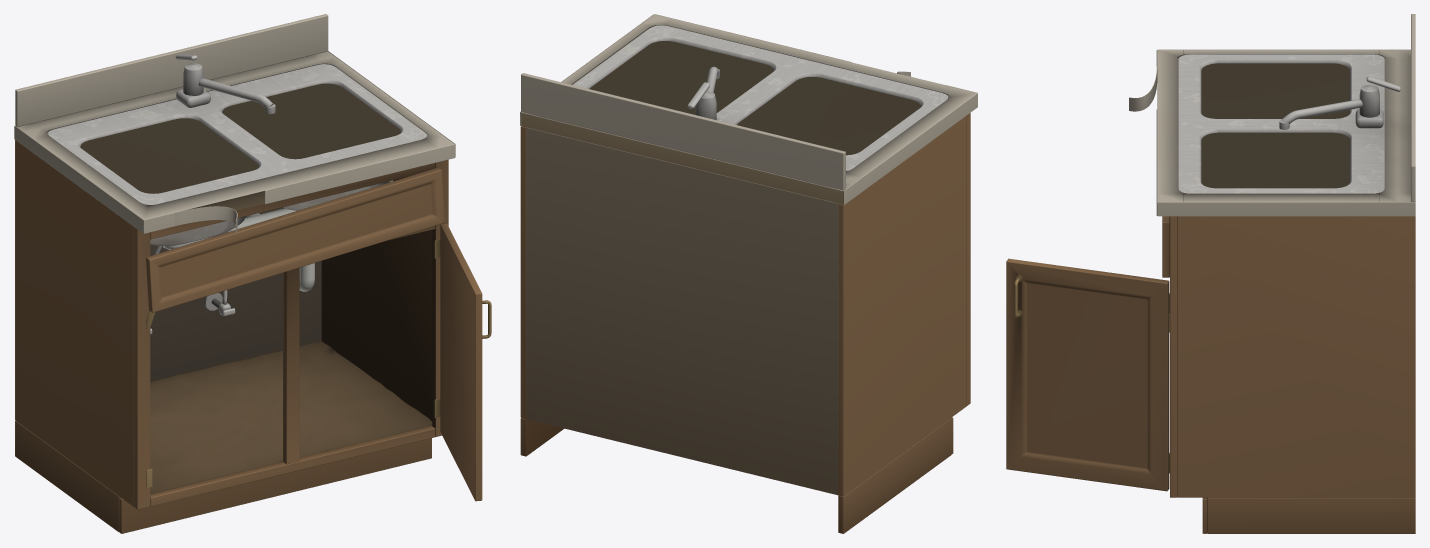
Rendered from kitchen_sink_cab_90.glb.
The picture shows the model from 3 angles, left to right: view 1: azimuth 30°, elevation 25°; view 2: azimuth 150°, elevation 25°; view 3: azimuth 270°, elevation 25°; orthographic projection. The views are drawn at different scales.
Parts seen in each view (by area): view 1: kitchen_sink_cab_90; view 2: kitchen_sink_cab_90; view 3: kitchen_sink_cab_90.
Boxes of the visible parts, box(x1,y1,x2,y2) form: kitchen_sink_cab_90: box(14, 14, 491, 533); kitchen_sink_cab_90: box(520, 14, 977, 533); kitchen_sink_cab_90: box(1006, 14, 1415, 533).
Bounding box in the file's own units: 0.9033 × 1.05 × 1.02.
11 materials, 1 textured.
